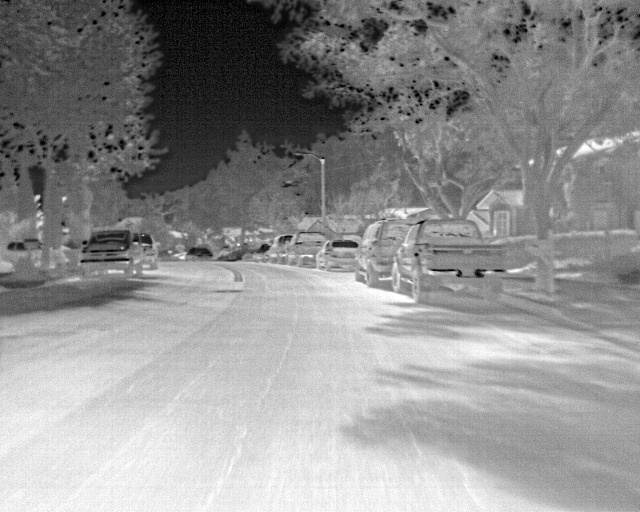vehicle: (392, 218, 508, 302), (78, 228, 141, 281), (357, 217, 405, 285), (317, 240, 361, 270), (291, 228, 325, 264), (131, 229, 157, 273)
